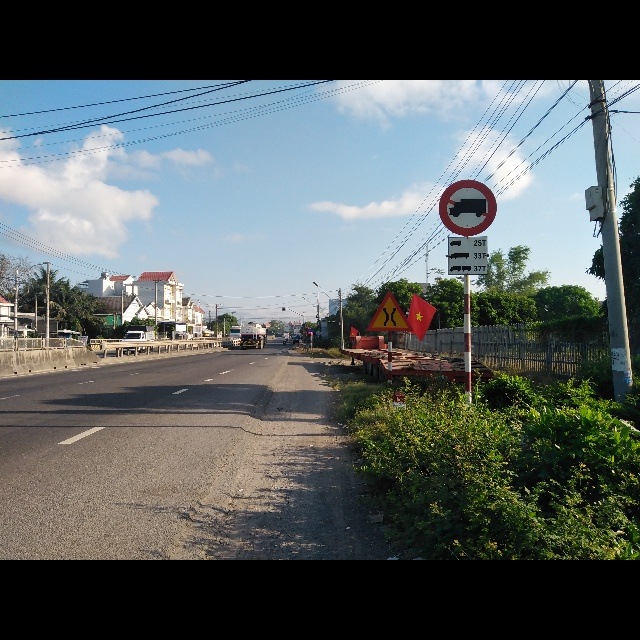Cấm xe tải: (438, 177, 499, 237)
Cầu hẹp: (367, 290, 415, 336)
